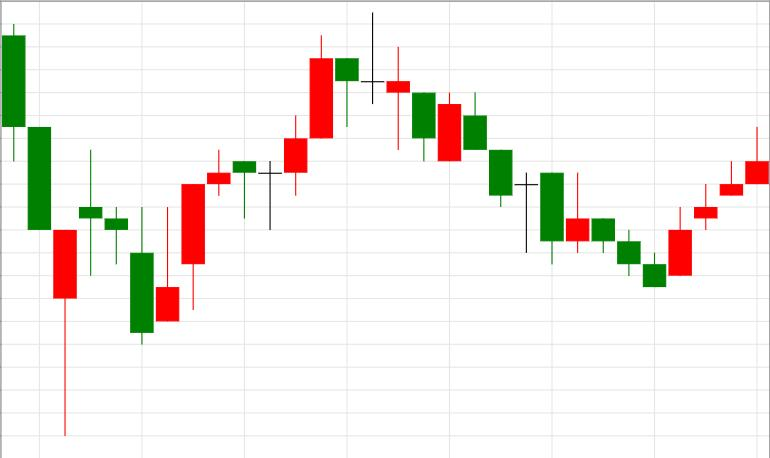inverse_hammer_rise: (1, 24, 179, 438)
